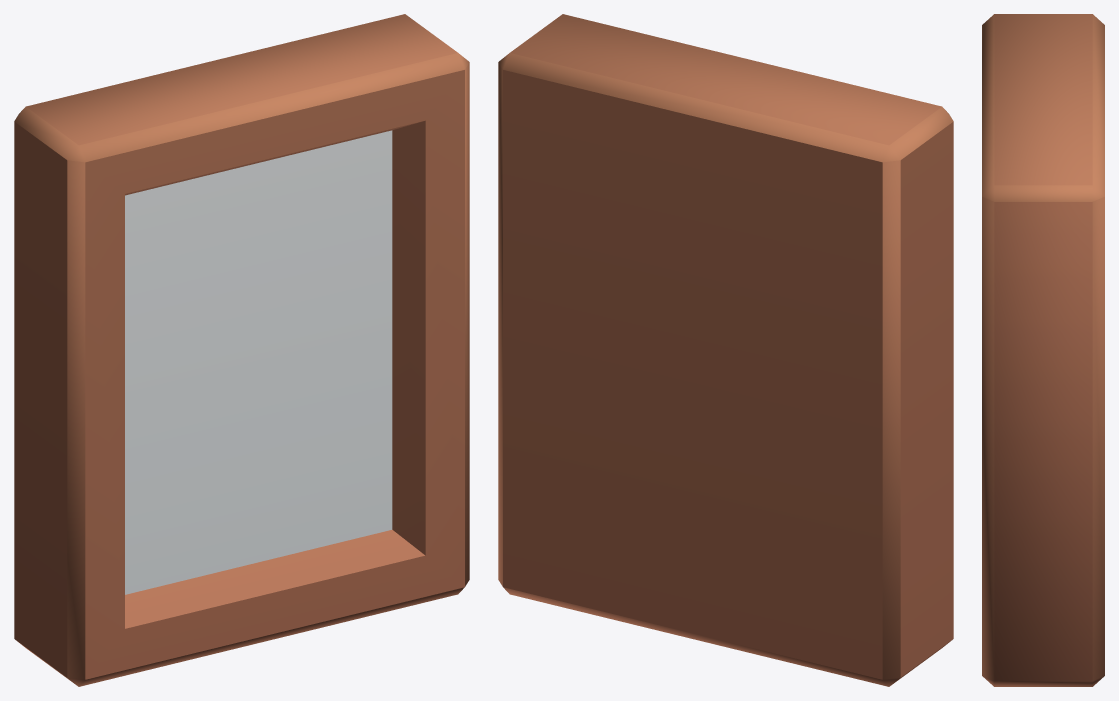
Rendered from pictureframe_medium.obj.
The picture shows the model from 3 angles, left to right: view 1: azimuth 30°, elevation 25°; view 2: azimuth 150°, elevation 25°; view 3: azimuth 270°, elevation 25°; orthographic projection. The views are drawn at different scales.
Parts seen in each view (by area): view 1: pictureframe_medium_Cube.015; view 2: pictureframe_medium_Cube.015; view 3: pictureframe_medium_Cube.015.
Boxes of the visible parts, box(x1,y1,x2,y2) form: pictureframe_medium_Cube.015: box(14, 14, 469, 686); pictureframe_medium_Cube.015: box(498, 14, 953, 686); pictureframe_medium_Cube.015: box(982, 14, 1104, 686).
Size of the model in its own units: 0.7 by 0.9 by 0.2.
1 material, 1 textured.
